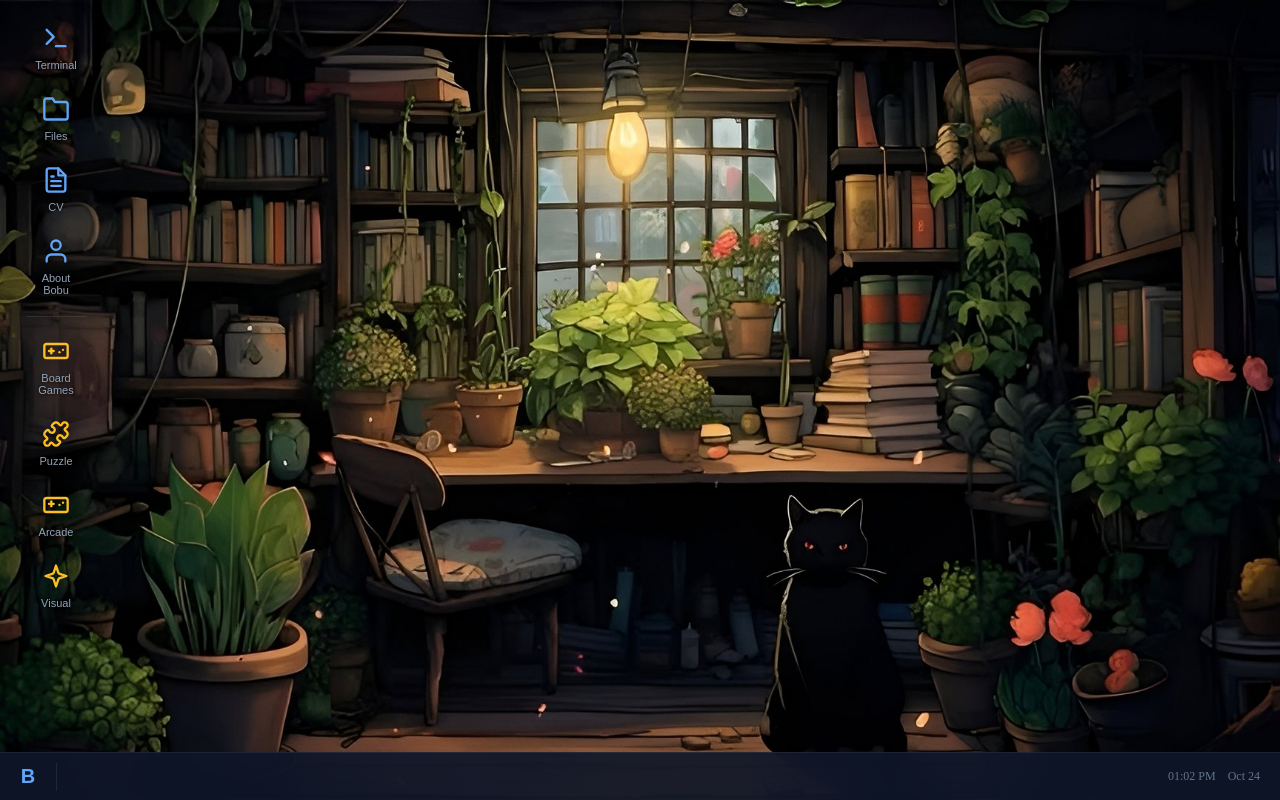
it: HomePage desktop › opens the About window with profile links
Double-click the button titled "About Bobu" at (56,266), box [16,229,96,304]
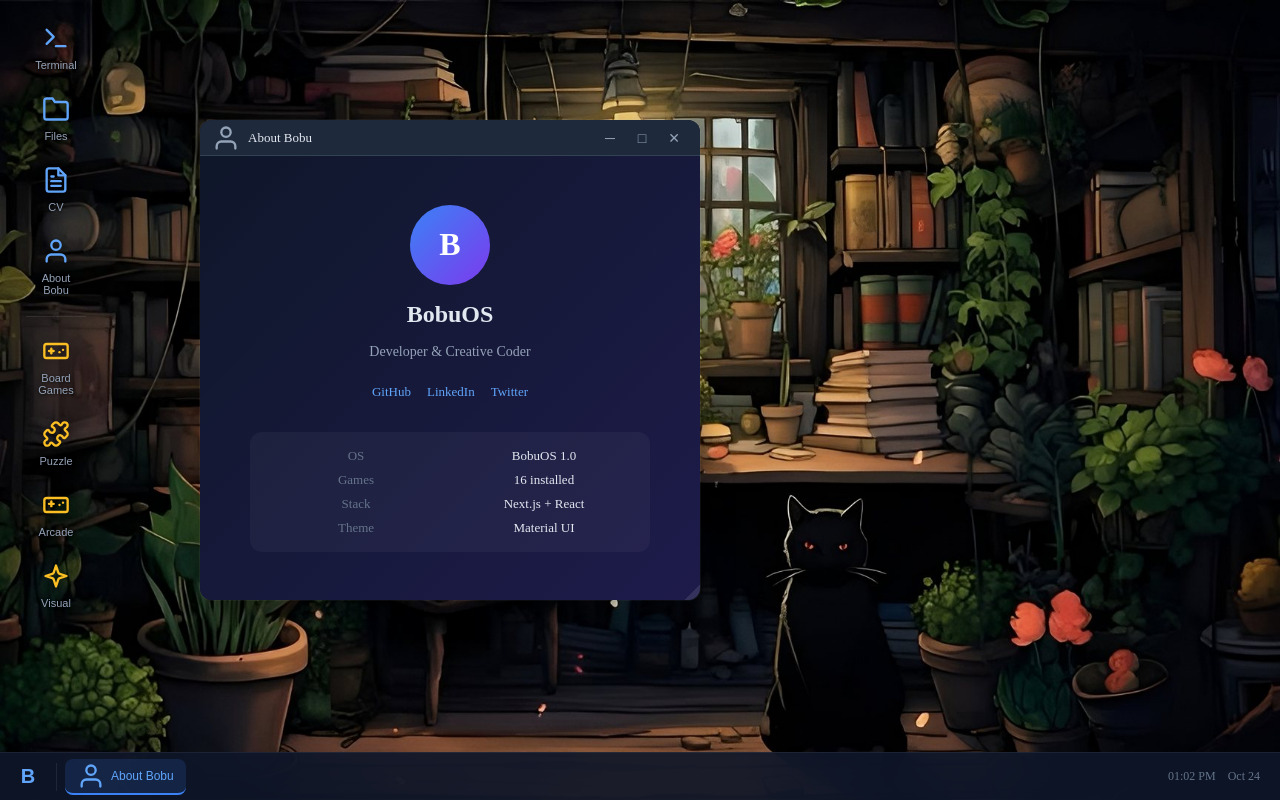
Expected: the text "Developer & Creative Coder" is shown, [369,344,531,360]
